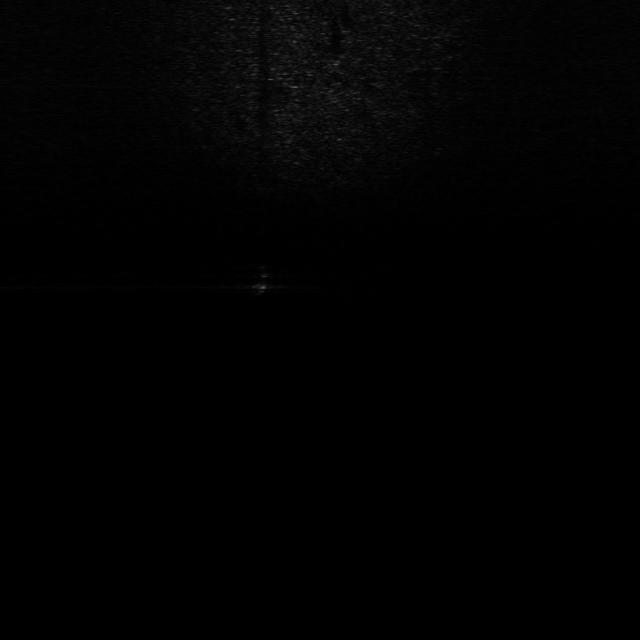human body: (247, 261, 282, 299)
